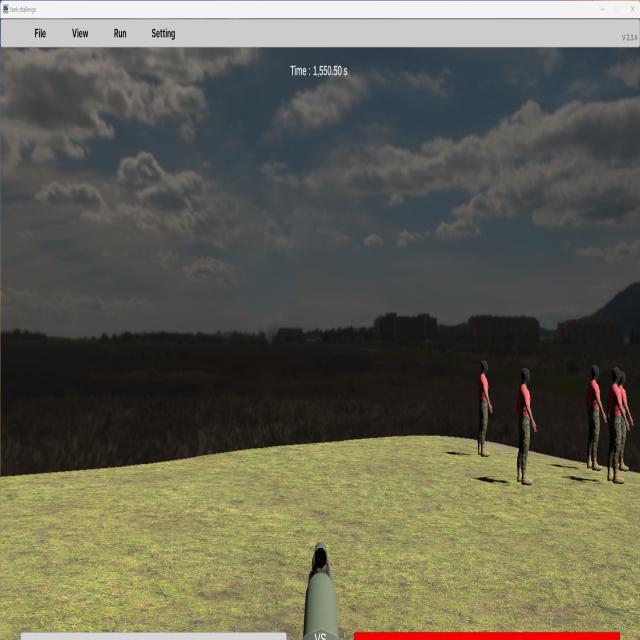Human: (517, 367, 537, 485), (608, 366, 628, 481), (615, 368, 634, 480), (586, 364, 606, 469), (615, 370, 634, 467), (478, 359, 492, 458)
